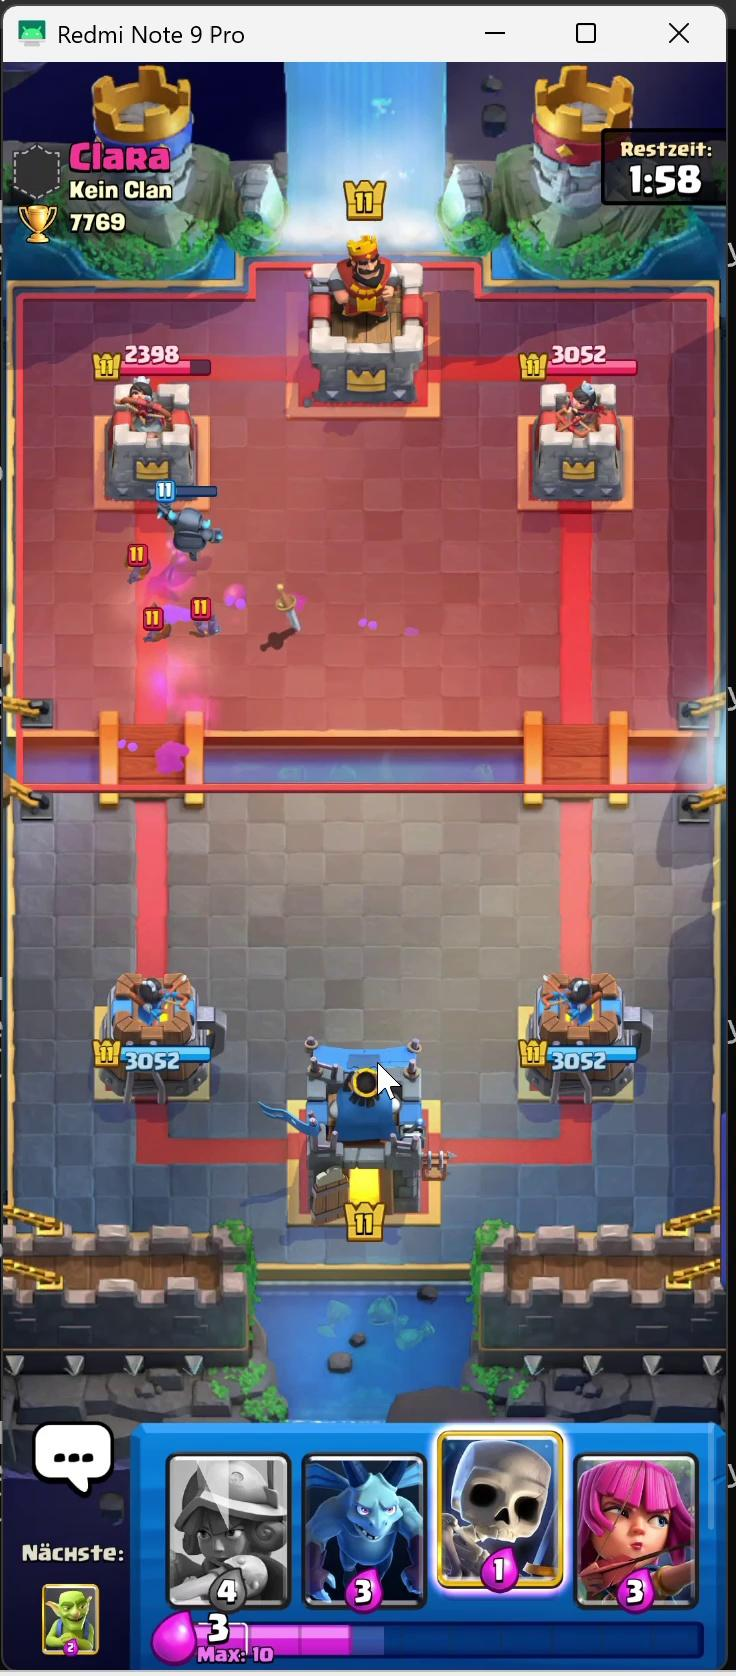bat: (139, 605, 182, 658), (121, 546, 156, 595), (181, 603, 225, 637)
mini_PEKKA: (167, 501, 216, 558)
